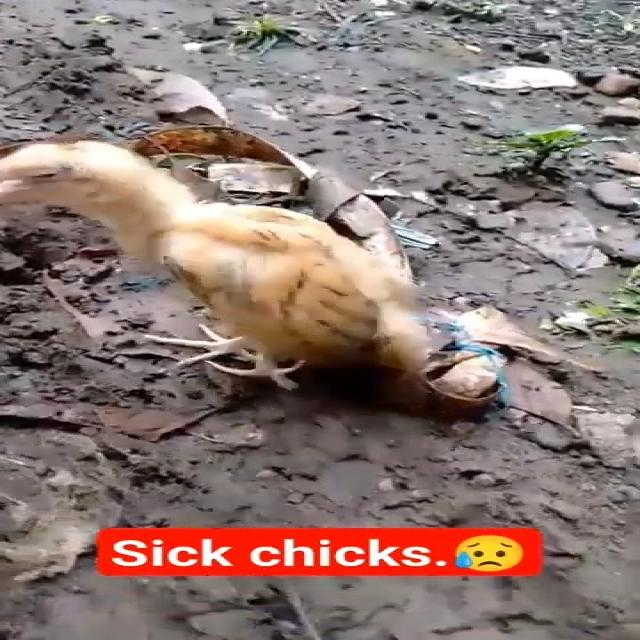abnormal chicken: (0, 142, 530, 424)
